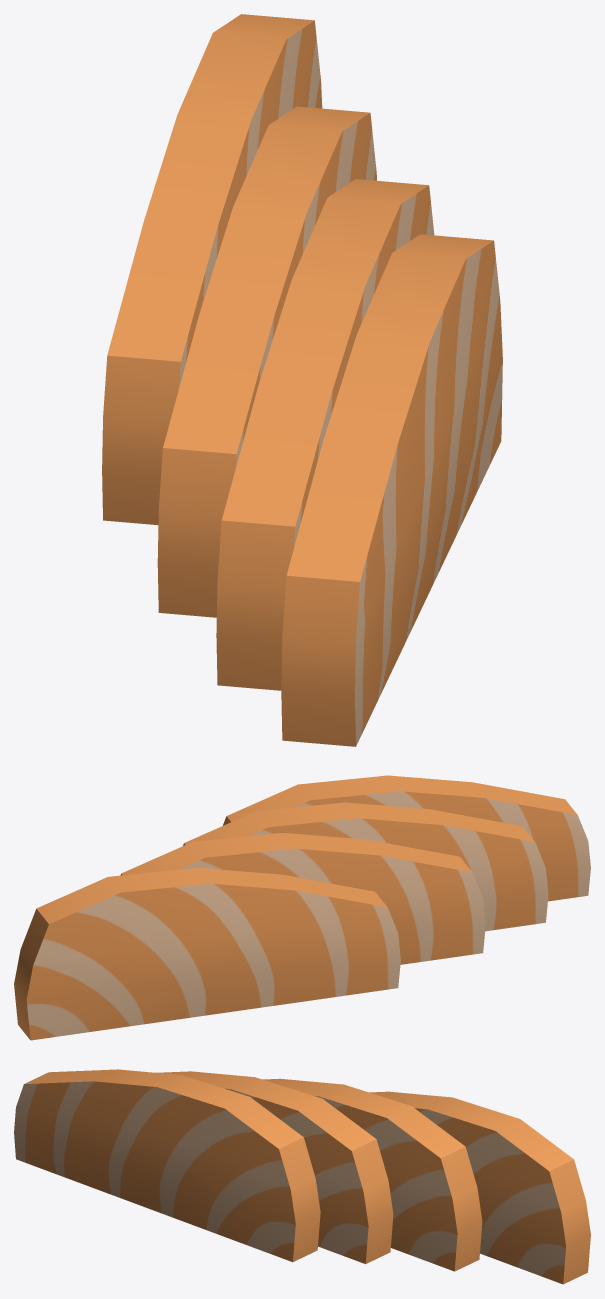
File: Salmon-UV.fbx
3 renders of one model, top to bottom at view 1: azimuth 30°, elevation 25°; view 2: azimuth 150°, elevation 25°; view 3: azimuth 270°, elevation 25°, orthographic. The views are drawn at different scales.
Parts seen in each view (by area): view 1: pCube11, pCube1, pCube10, pCube9; view 2: pCube1, pCube9, pCube10, pCube11; view 3: pCube11, pCube1, pCube9, pCube10.
Part boxes in pixels (bbox=[...]): pCube11: bbox=[281, 234, 502, 746]; pCube1: bbox=[102, 14, 322, 524]; pCube10: bbox=[216, 179, 434, 690]; pCube9: bbox=[157, 106, 376, 617]; pCube1: bbox=[14, 868, 400, 1040]; pCube9: bbox=[120, 833, 485, 964]; pCube10: bbox=[183, 802, 548, 931]; pCube11: bbox=[223, 775, 590, 901]; pCube11: bbox=[14, 1069, 320, 1262]; pCube1: bbox=[369, 1091, 590, 1284]; pCube9: bbox=[262, 1078, 482, 1271]; pCube10: bbox=[156, 1071, 393, 1264].
Bounding box in the file's own units: 3.82 × 1.64 × 6.7.
Materials: 1 (1 with a texture image).
